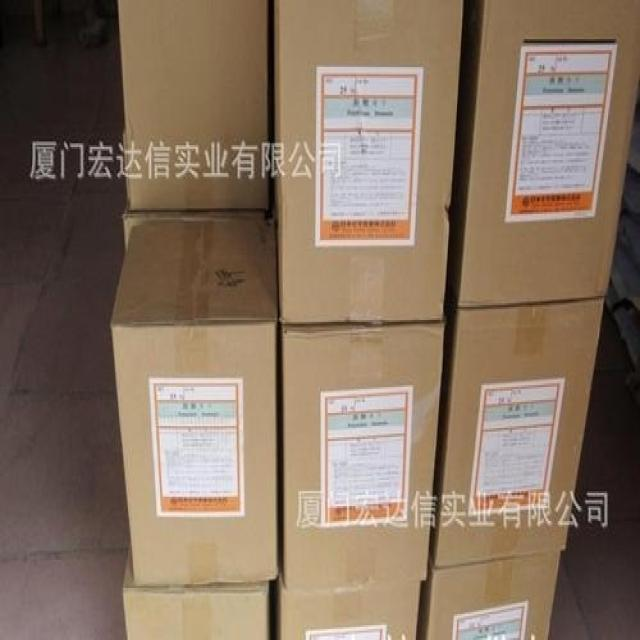box: (109, 219, 280, 588), (272, 1, 464, 322), (446, 1, 639, 305), (430, 296, 603, 566), (280, 321, 445, 585), (117, 2, 271, 212), (119, 539, 274, 638), (417, 550, 562, 637), (267, 580, 423, 637), (123, 207, 272, 251)
